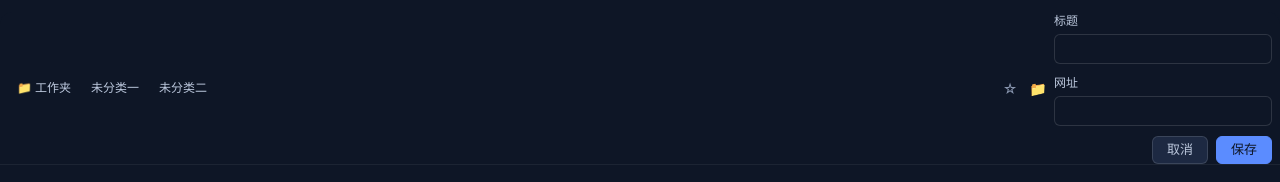
BookmarksBar：右键菜单与文件夹下拉 › 空白处右键出收藏/新建文件夹菜单
Right-click the element with class "bookmarks-bar".
right_click(640, 88)  # box [0, 12, 1279, 165]
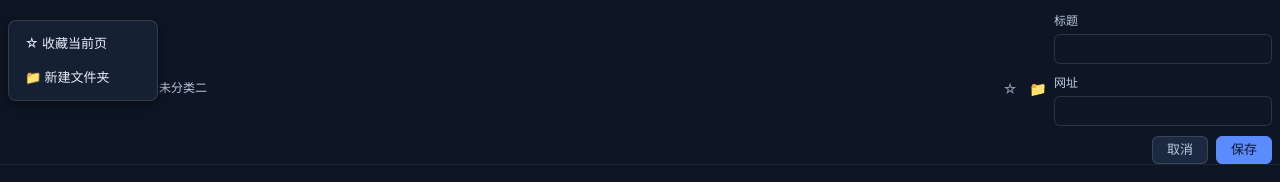
Result: the element with class "context-menu" is shown at [8, 20, 158, 101]
Result: the element with class "context-menu" shows "收藏当前页" at [25, 34, 107, 52]
Result: the element with class "context-menu" shows "新建文件夹" at [25, 68, 110, 86]
